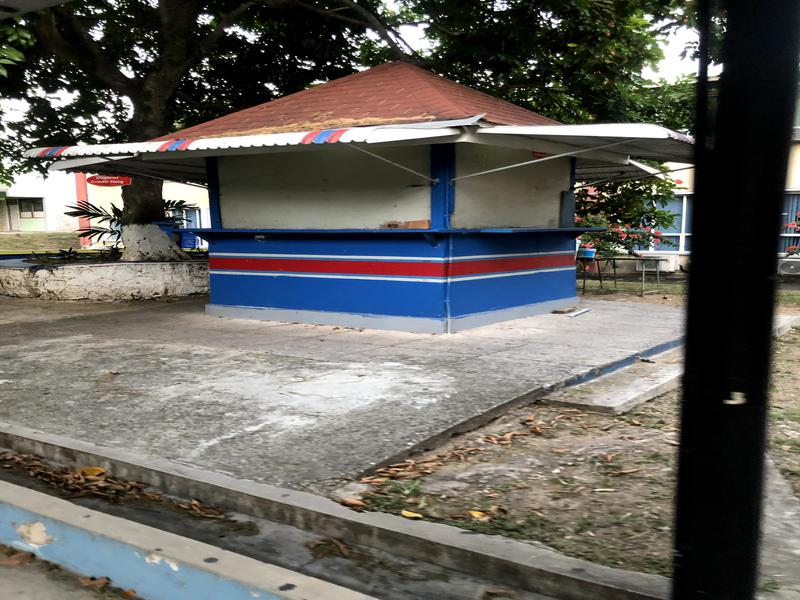18.0050609_-76.7496662_auntyjackie: (20, 22, 678, 352)
